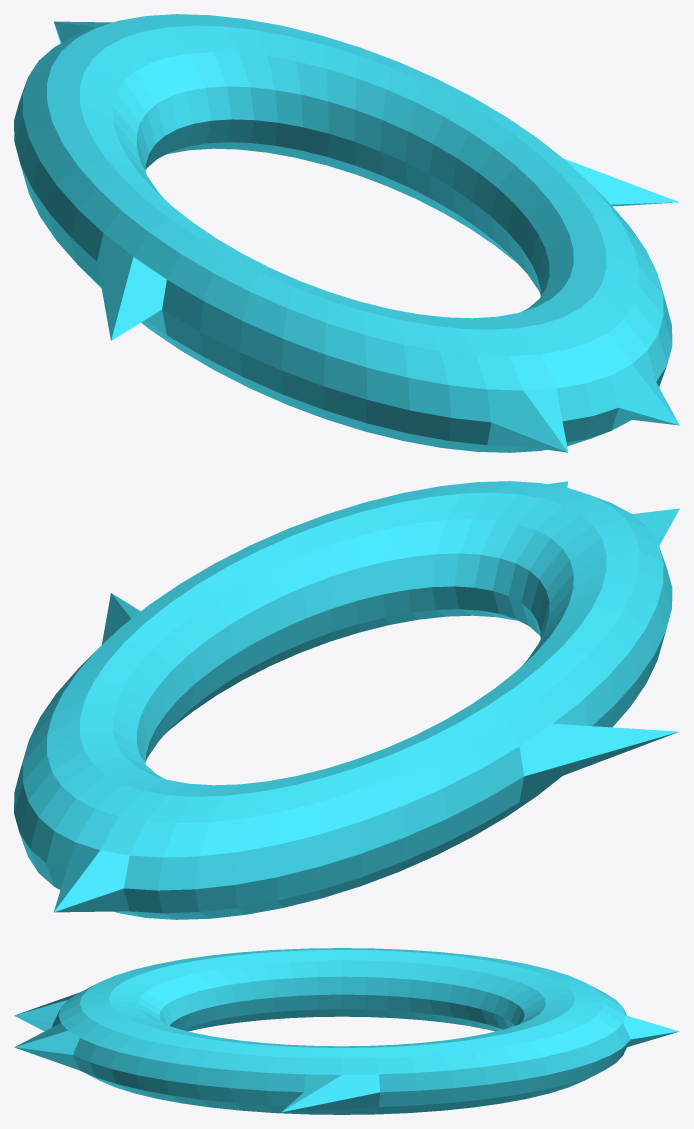
Rendered from pinguin.glb.
3 renders of one model, top to bottom at view 1: azimuth 30°, elevation 25°; view 2: azimuth 150°, elevation 25°; view 3: azimuth 270°, elevation 25°, orthographic. The views are drawn at different scales.
Visible parts, largest first — view 1: pinguin; view 2: pinguin; view 3: pinguin.
Boxes of the visible parts, box(x1,y1,x2,y2) form: pinguin: box(14, 14, 679, 452); pinguin: box(14, 481, 679, 919); pinguin: box(14, 948, 679, 1114).
Bounding box in the file's own units: 1.65 × 0.3083 × 2.86.
